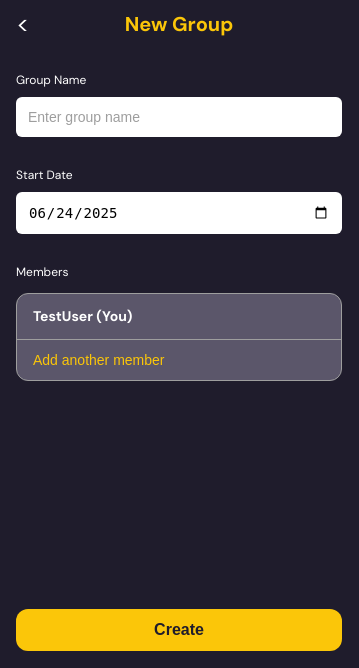
Test case: NewGroupPage › submits the form and redirects on success
Type "My Group" into the field with placeholder "Enter group name".
click(179, 117); type("My Group")  # box [16, 97, 342, 137]
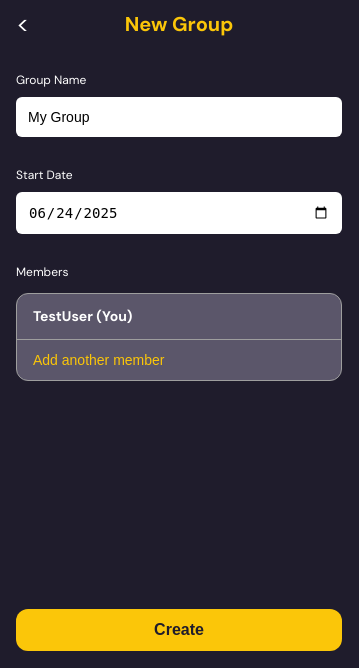
Type "2025-05-11" into the date field labelled "Start Date".
click(179, 213); type("2025-05-11")  # box [16, 192, 342, 234]
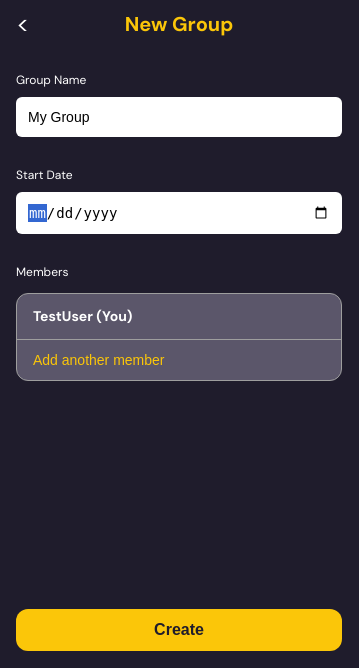
Submit the form with test id "createForm", box [16, 71, 342, 381]
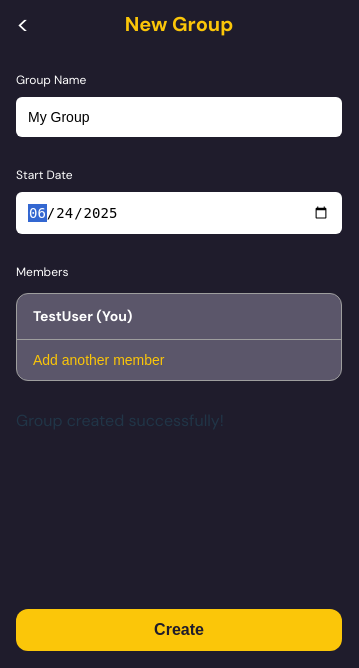
expect the text "Group created successfully!" is shown: met, box [16, 410, 224, 431]
